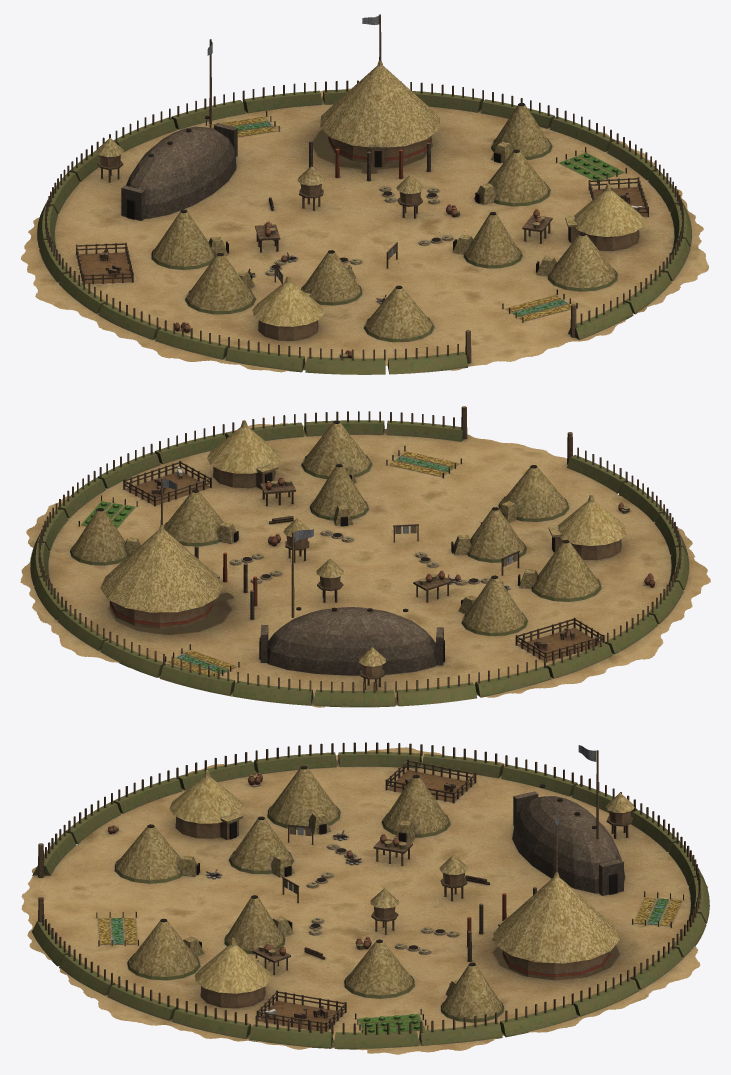
File: stone-town-medium-a-sinic.glb
The picture shows the model from 3 angles, top to bottom: view 1: azimuth 30°, elevation 25°; view 2: azimuth 150°, elevation 25°; view 3: azimuth 270°, elevation 25°; orthographic projection. The views are drawn at different scales.
Visible parts, largest first — view 1: LOD0; view 2: LOD0; view 3: LOD0.
Part boxes in pixels (x1,y1,x2,y2): LOD0: (20,14,708,374); LOD0: (20,406,710,707); LOD0: (21,742,709,1054).
Size of what is drawn, in the model's own units: 6.03 by 1.23 by 5.71.
3 materials, 3 textured.
